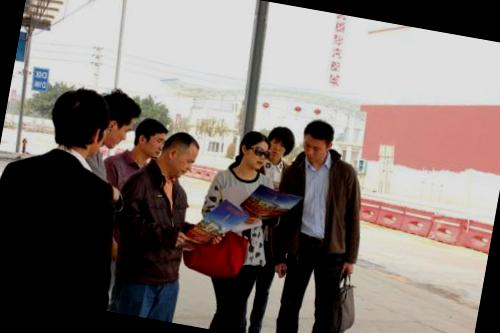no_helmet: (43, 80, 119, 164), (156, 124, 206, 182), (296, 114, 340, 166), (98, 91, 138, 148), (130, 115, 170, 166), (234, 126, 274, 175), (264, 121, 299, 167)
